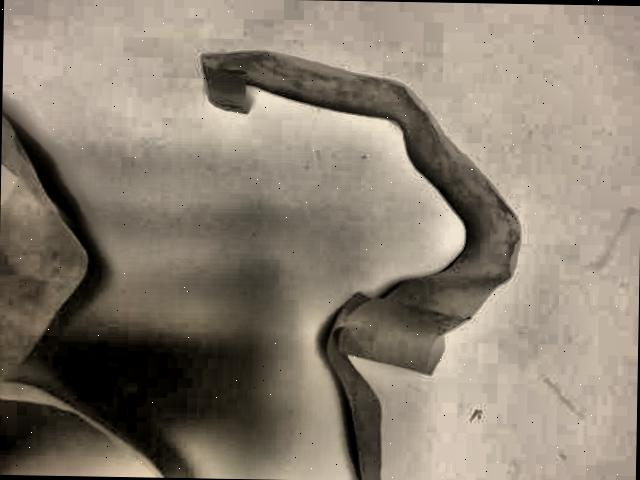Paper: (172, 37, 537, 480), (0, 72, 199, 478)
